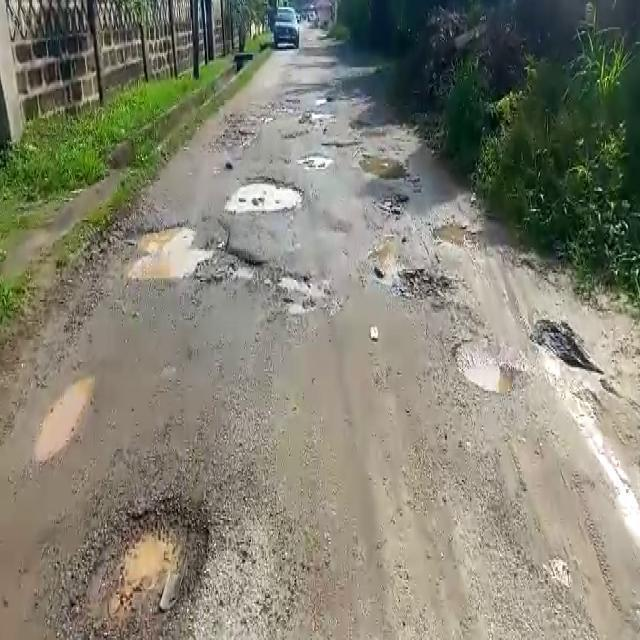pothole: (82, 495, 219, 637), (120, 218, 262, 284), (31, 373, 95, 462), (531, 317, 609, 378), (454, 337, 520, 400), (226, 172, 308, 215), (276, 273, 337, 317), (396, 265, 456, 304), (430, 216, 483, 249), (358, 152, 411, 185), (298, 150, 336, 167)
